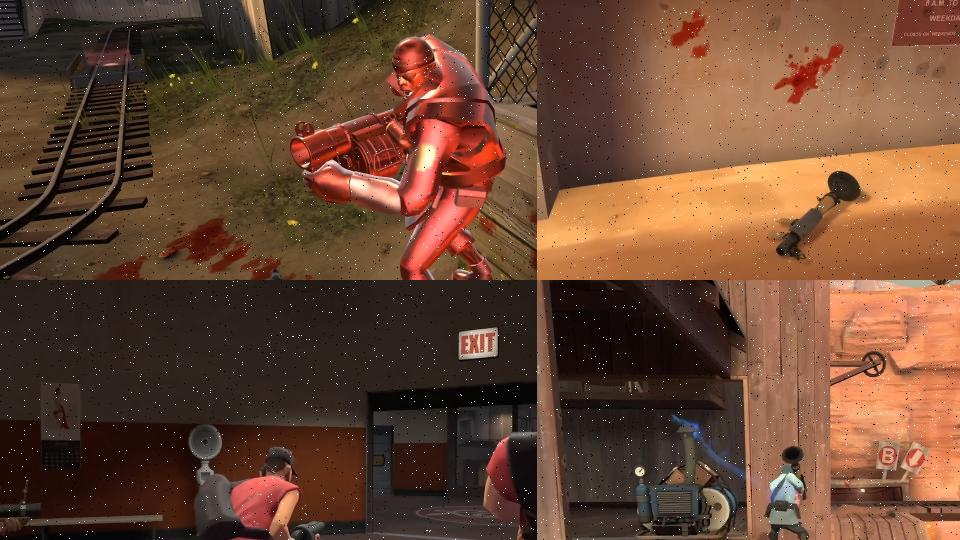Enemy: (294, 31, 505, 280), (139, 446, 325, 540), (757, 442, 818, 540)
